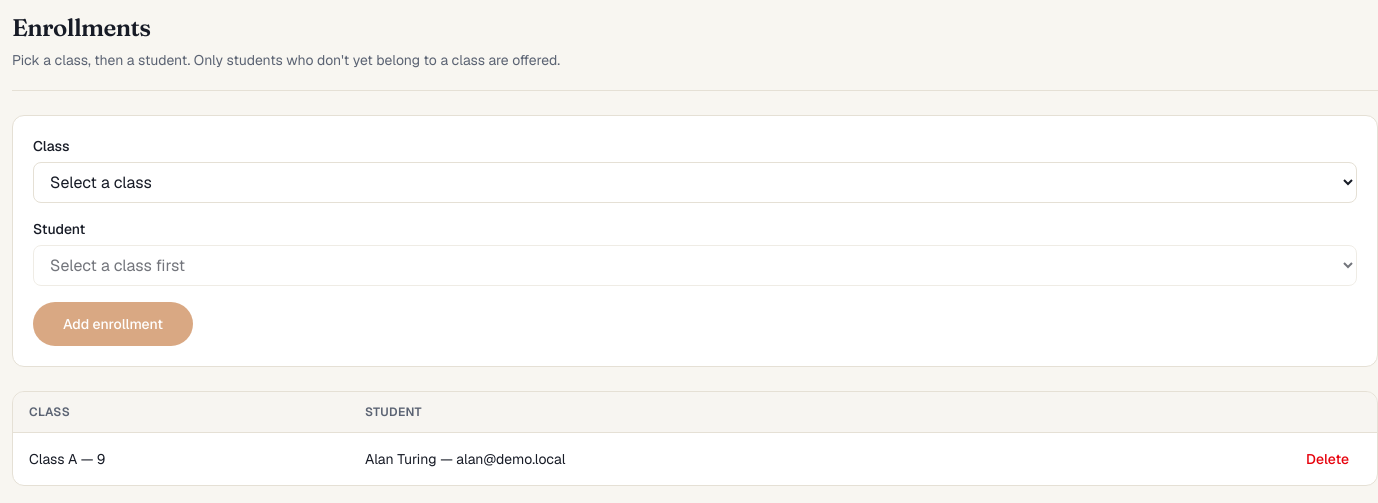
it: AdminEnrollmentsPage › shows a message when every student already belongs to a class
Select "Class A — 9" in the dropdown labelled "Class". click: (695, 182)
box: [33, 162, 1357, 203]
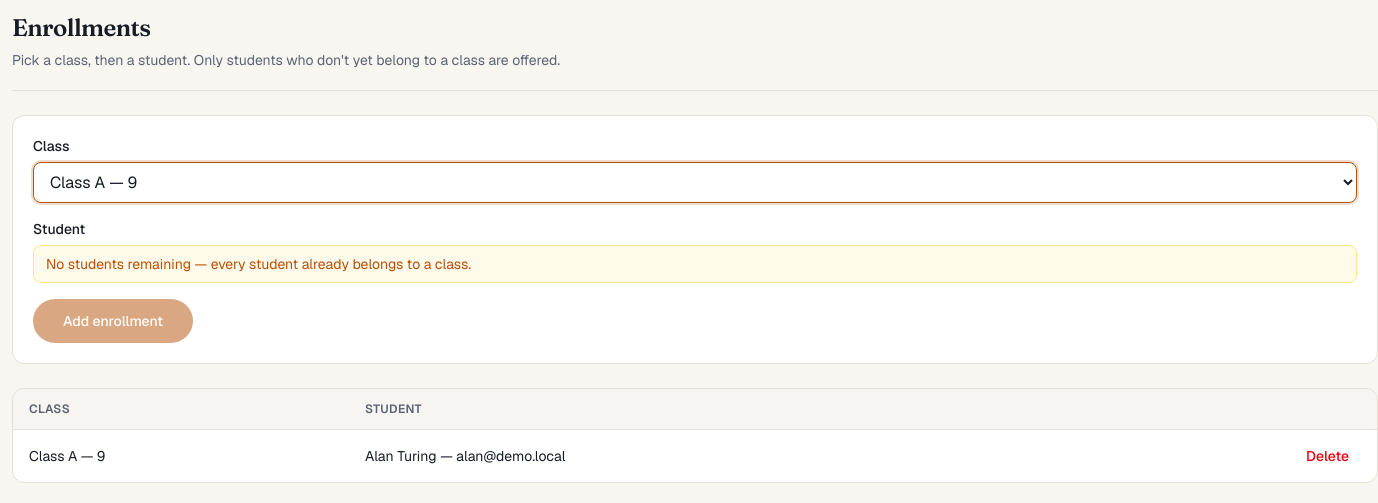
Expected: the button "Add enrollment" is disabled, [33, 299, 193, 343]
Expected: the text "No students remaining — every student already belongs to a class." is shown, [33, 245, 1357, 283]
